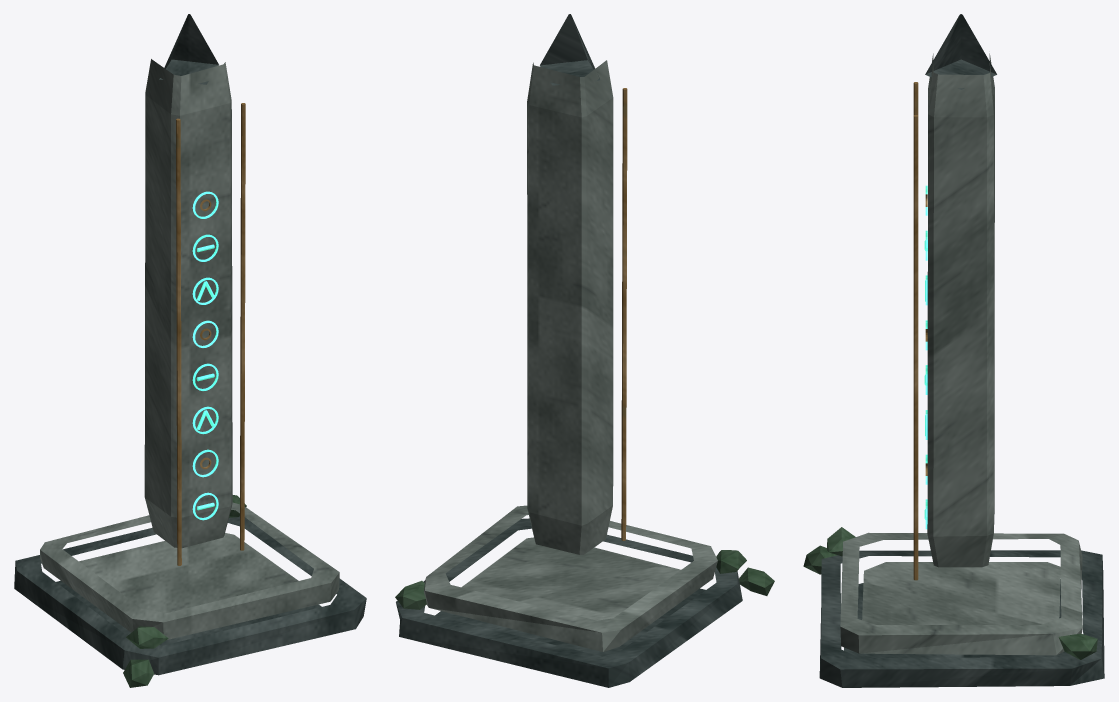
The model's file is 0489_obelisk_14.glb.
3 views of the same model, side by side, from view 1: azimuth 30°, elevation 25°; view 2: azimuth 150°, elevation 25°; view 3: azimuth 270°, elevation 25° (orthographic). The views are drawn at different scales.
Parts seen in each view (by area): view 1: stone, stone_dark, brass, glow, moss; view 2: stone, stone_dark, brass, moss; view 3: stone, stone_dark, brass, moss, glow.
Boxes of the visible parts, left/top/right/bottom form: stone: left=40, top=59, right=339, bottom=639; stone_dark: left=14, top=14, right=366, bottom=675; brass: left=176, top=103, right=245, bottom=565; glow: left=192, top=191, right=218, bottom=520; moss: left=123, top=495, right=246, bottom=687; stone: left=424, top=60, right=717, bottom=651; stone_dark: left=396, top=14, right=742, bottom=687; brass: left=621, top=88, right=627, bottom=540; moss: left=395, top=550, right=774, bottom=609; stone: left=840, top=53, right=1082, bottom=655; stone_dark: left=819, top=14, right=1104, bottom=687; brass: left=913, top=82, right=927, bottom=580; moss: left=803, top=527, right=1097, bottom=659; glow: left=924, top=185, right=927, bottom=529.
Bounding box in the file's own units: 1.99 × 4.52 × 2.
5 materials, 5 textured.
